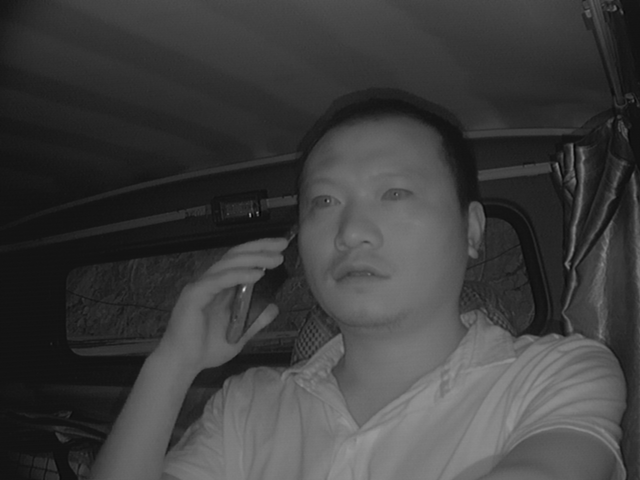hand: (174, 236, 284, 378)
